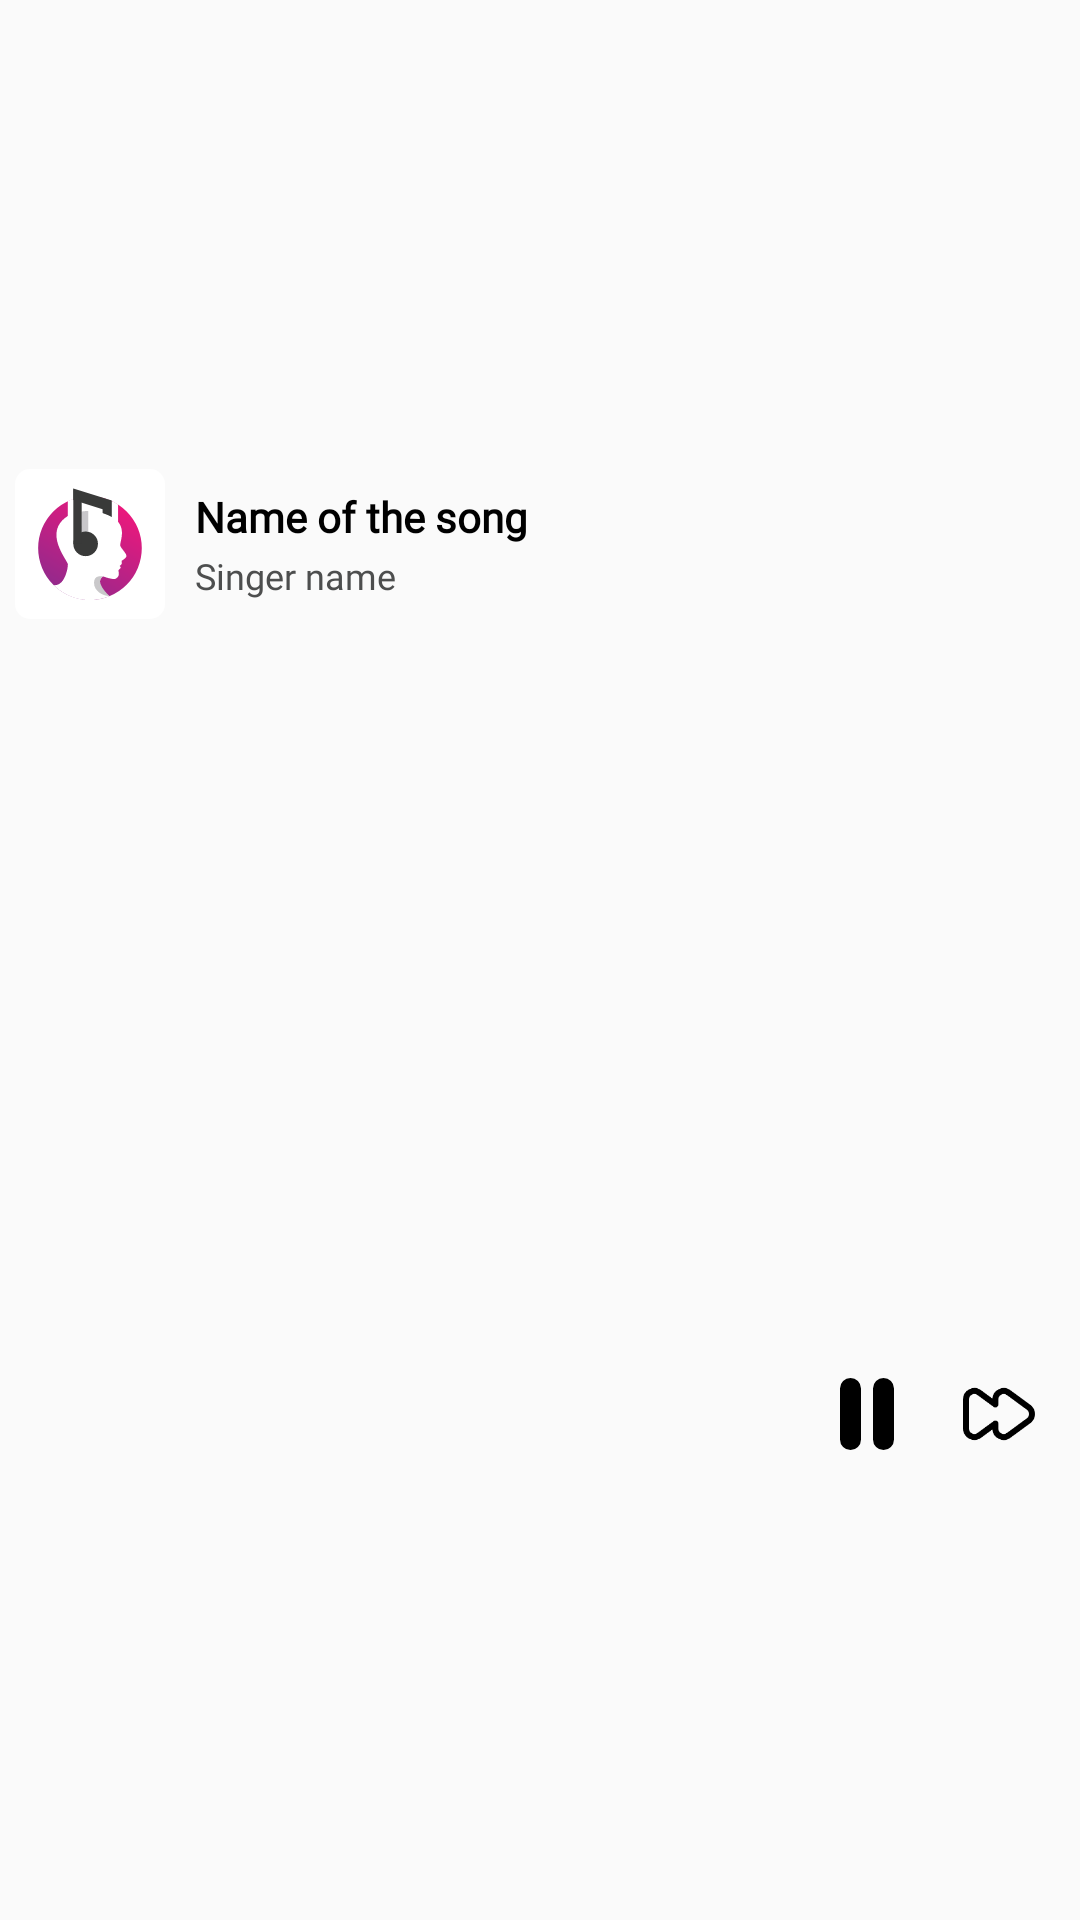

Named icons in this screenshot (1080×1920) and their bounding boxes, (x1, y1, x2, y2):
next: (963, 1387, 1035, 1441)
pause: (840, 1378, 894, 1450)
